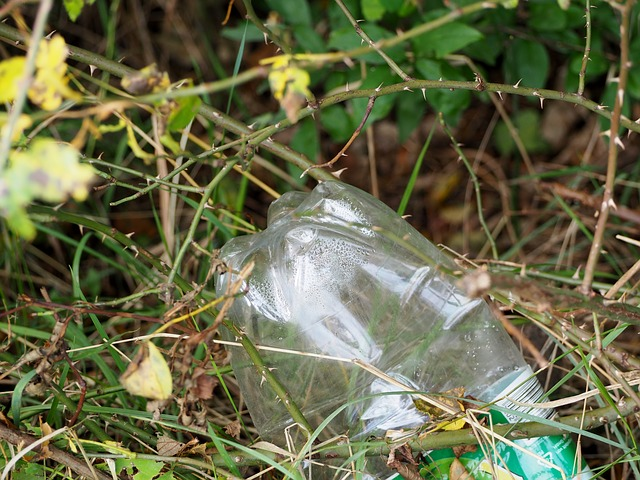plastic_bottle: (208, 171, 603, 480)
